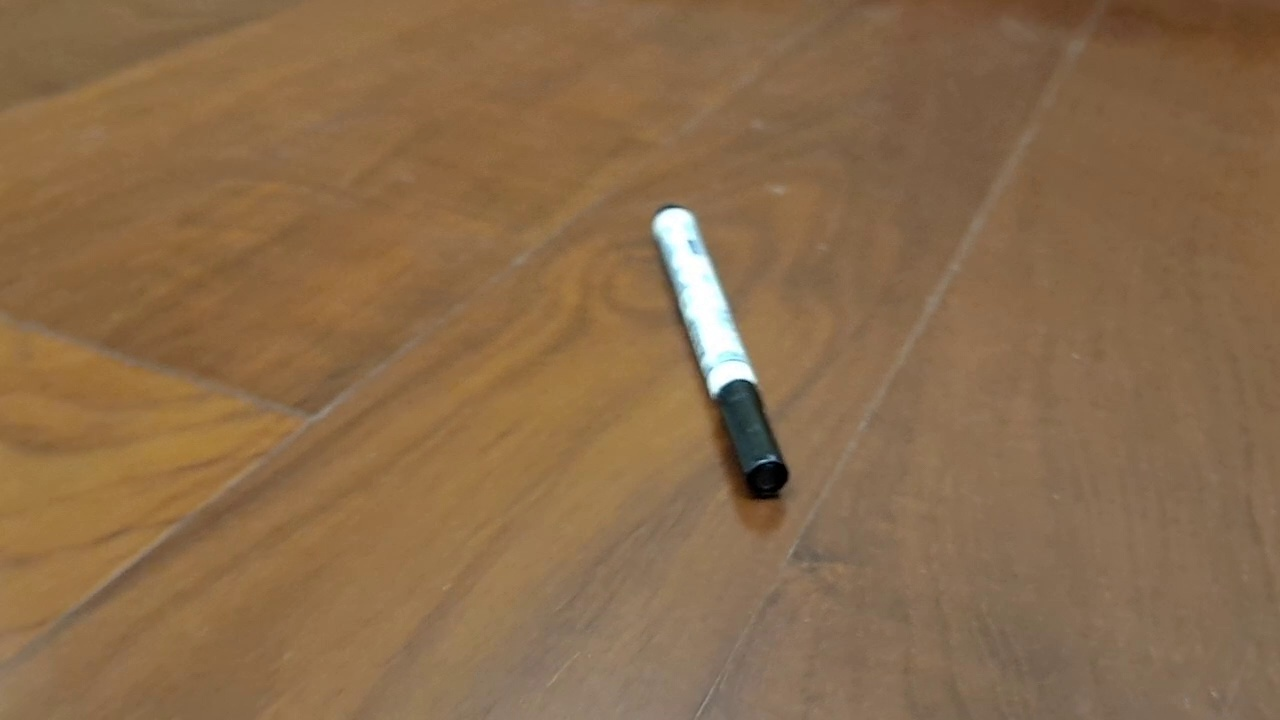pen: (649, 203, 789, 497)
